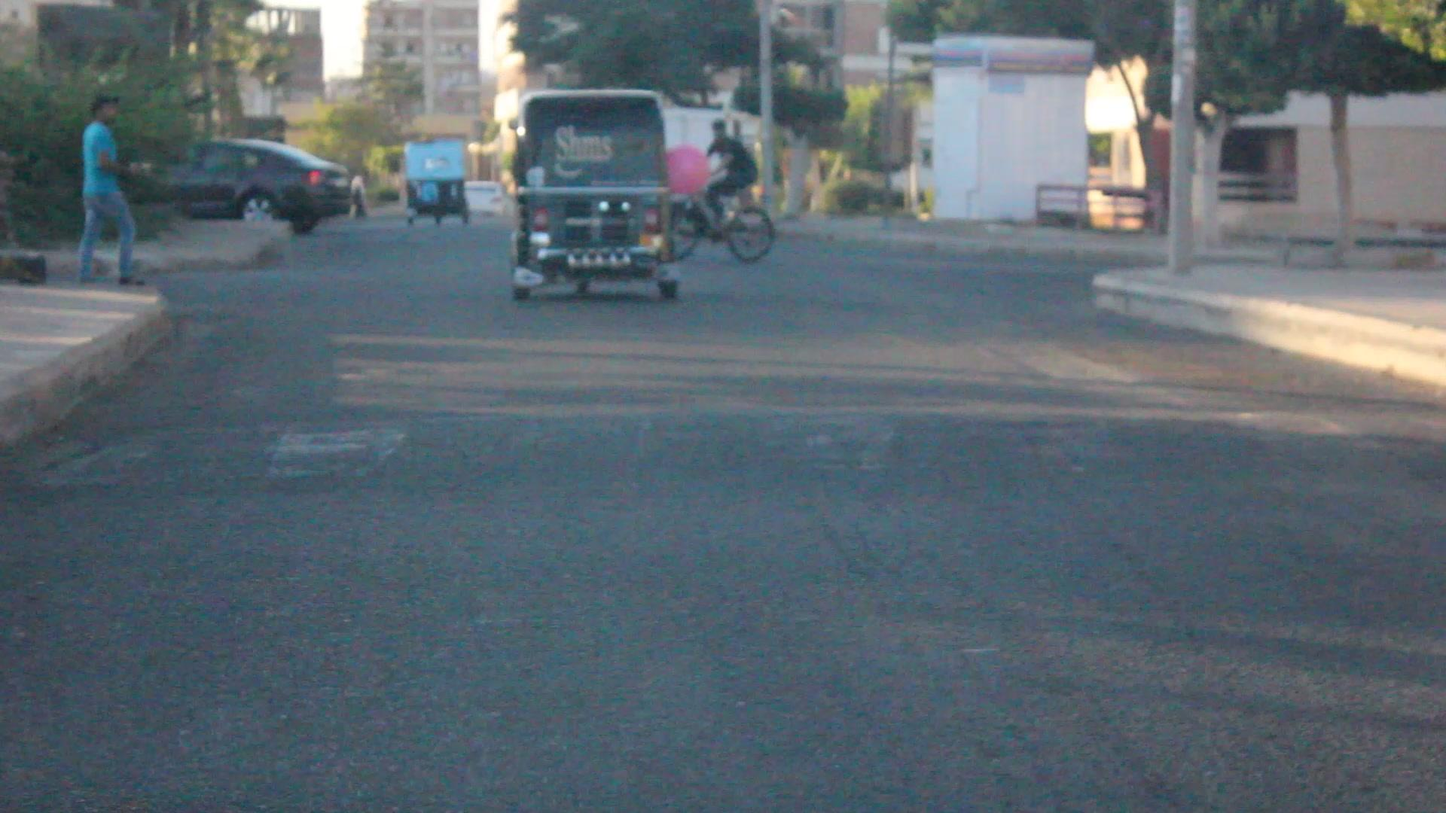Bump: (0, 407, 1445, 487)
